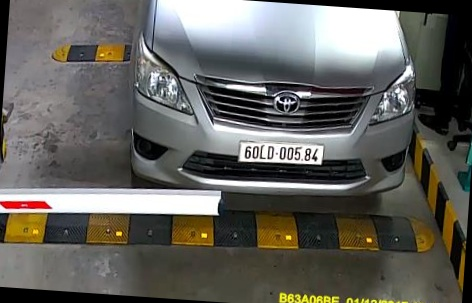plate: (234, 137, 333, 171)
